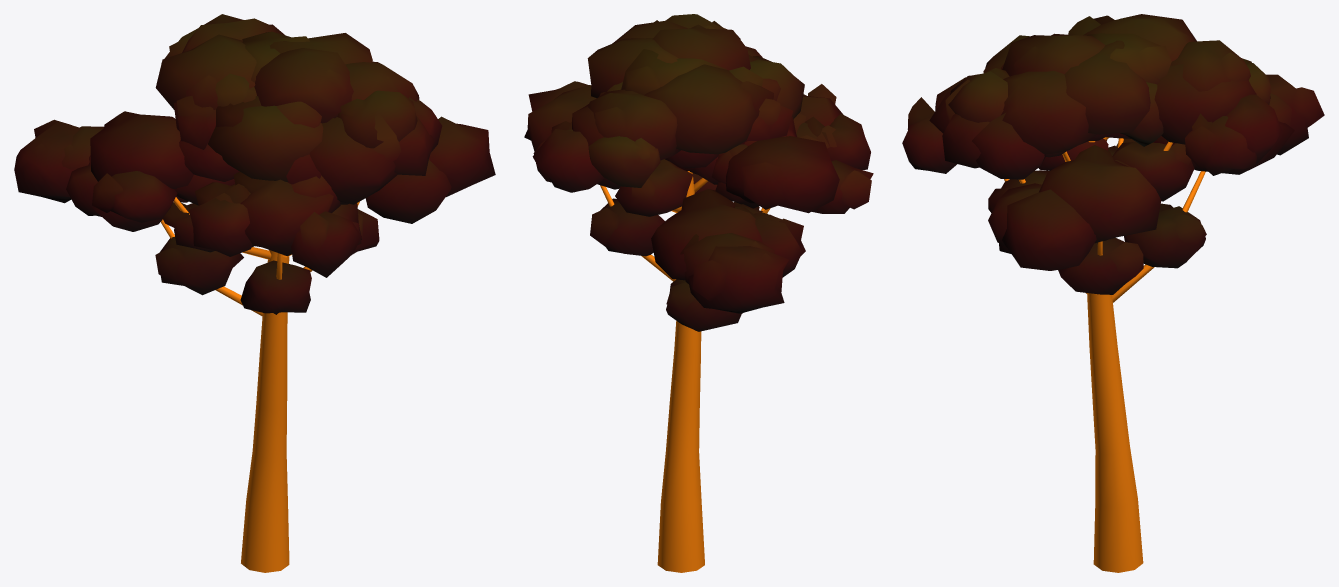
File: Pine_B.fbx
3 renders of one model, left to right at view 1: azimuth 30°, elevation 25°; view 2: azimuth 150°, elevation 25°; view 3: azimuth 270°, elevation 25°, orthographic. The views are drawn at different scales.
Visible parts, largest first — view 1: Pine_B; view 2: Pine_B; view 3: Pine_B.
Boxes of the visible parts, <box> form: Pine_B: <box>14,14,495,572</box>; Pine_B: <box>524,14,873,572</box>; Pine_B: <box>902,14,1324,572</box>.
Bounding box in the file's own units: 11.56 × 15.57 × 11.14.
